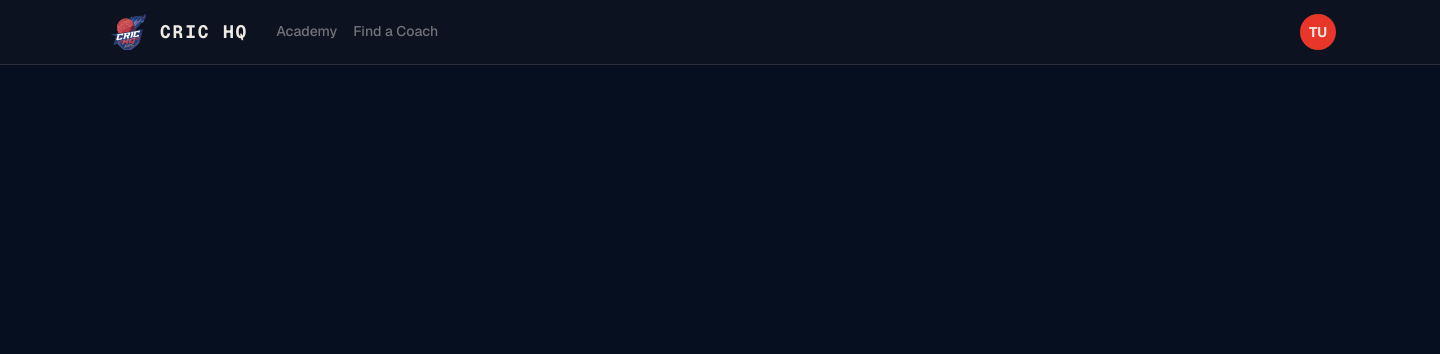
it: NavBar › labels a shared-email child's parent and player identities distinctly, not as an exact duplicate
Click the button titled "Account menu".
click(1318, 32)  # box [1300,14,1336,50]
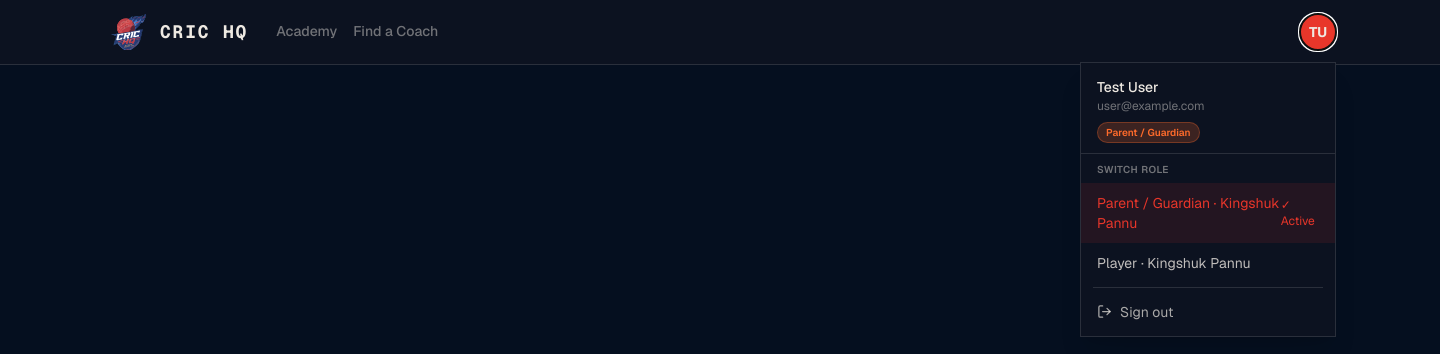
Expected: the button "Parent / Guardian · Kingshuk Pannu" is shown, [1081,182,1335,242]
Expected: the button "Player · Kingshuk Pannu" is shown, [1081,242,1335,282]
